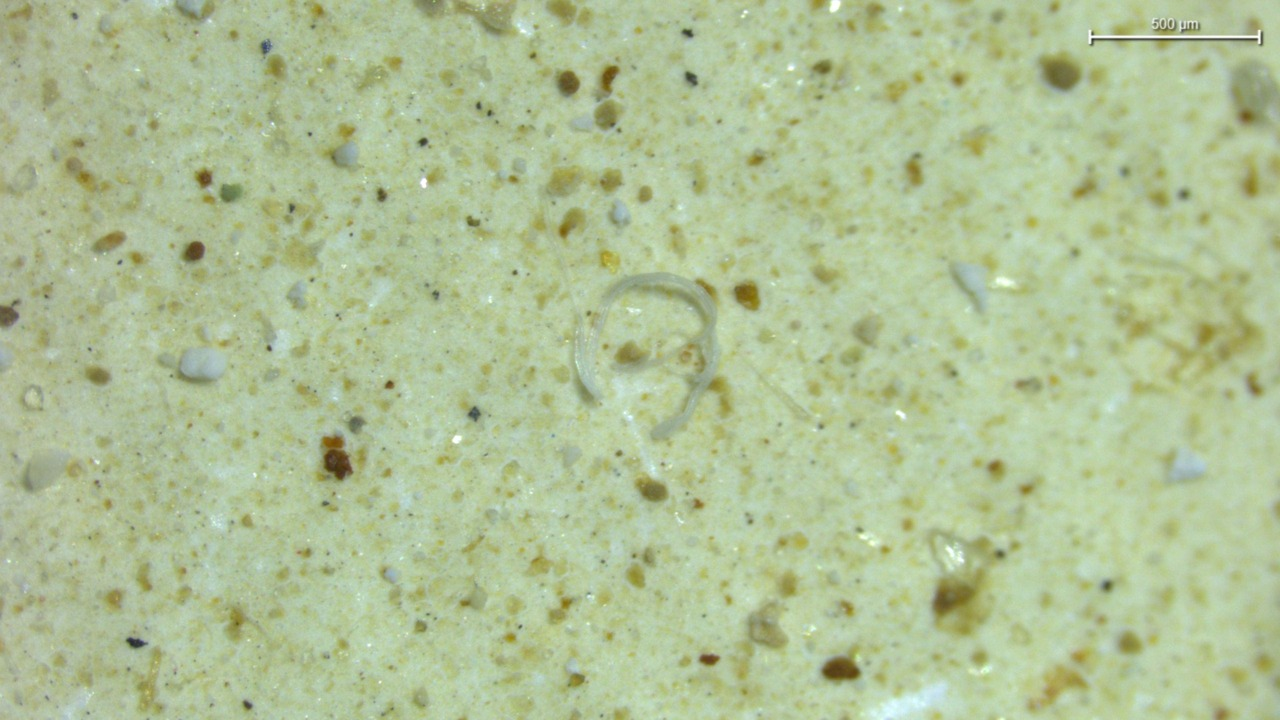microplastic_fragment: (23, 448, 70, 491), (950, 262, 988, 313), (179, 347, 226, 381), (608, 199, 631, 228), (333, 141, 359, 166)
